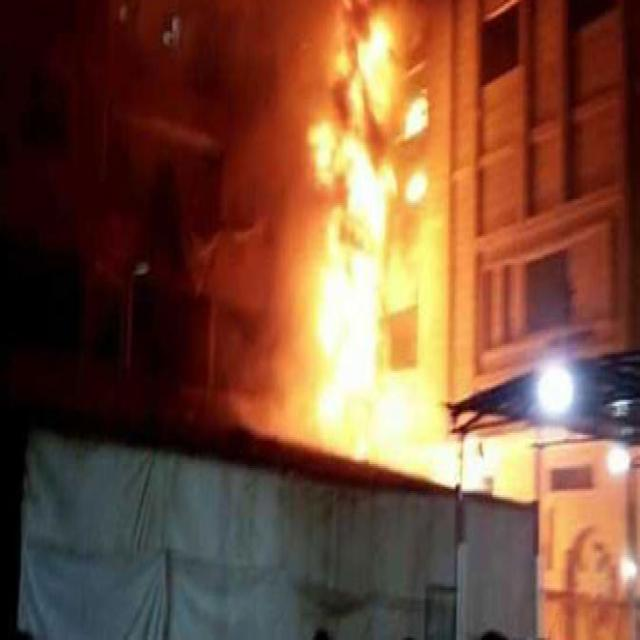Fire: (271, 0, 506, 538)
Smoke: (76, 0, 282, 412)
